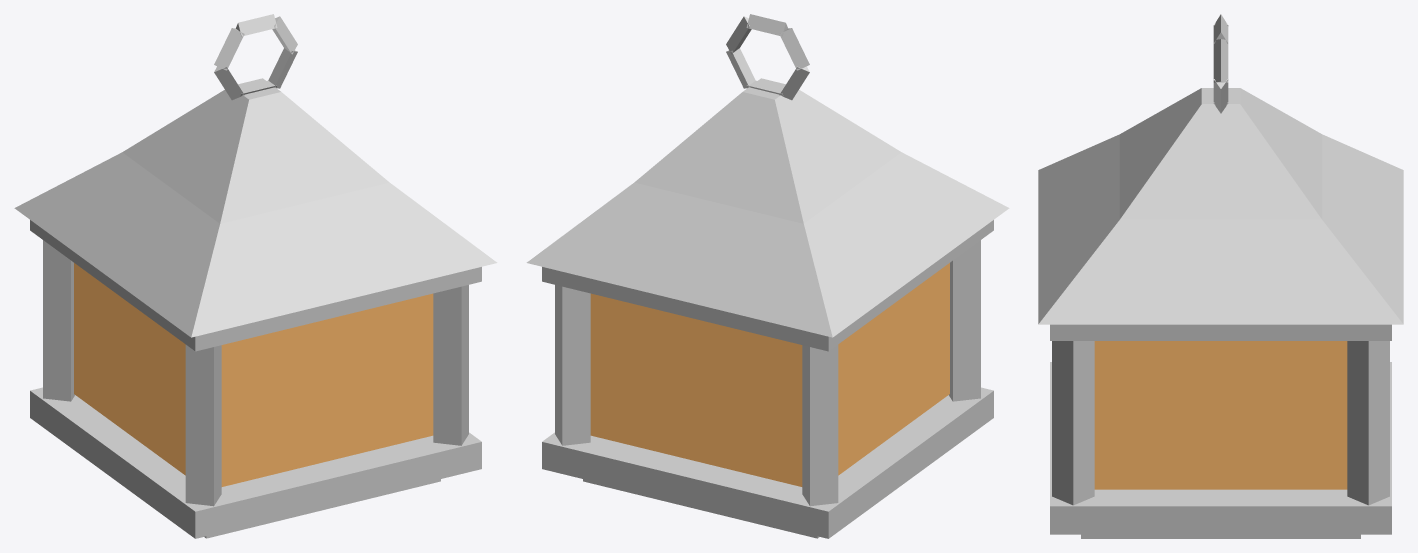
The model's file is gear.lantern.glb.
The picture shows the model from 3 angles, left to right: view 1: azimuth 30°, elevation 25°; view 2: azimuth 150°, elevation 25°; view 3: azimuth 270°, elevation 25°; orthographic projection. The views are drawn at different scales.
Visible parts, largest first — view 1: gear_lantern; view 2: gear_lantern; view 3: gear_lantern.
Part boxes in pixels (bbox=[...]): gear_lantern: bbox=[14, 14, 497, 538]; gear_lantern: bbox=[526, 14, 1009, 538]; gear_lantern: bbox=[1038, 14, 1403, 538].
Size of the model in its own units: 0.0941 by 0.1297 by 0.0941.
